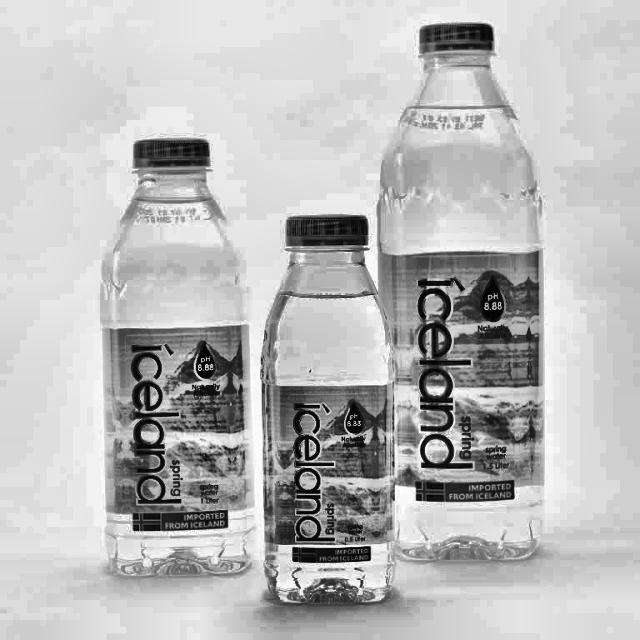waterbottle: (366, 15, 567, 578), (94, 125, 262, 591), (237, 199, 409, 612)
